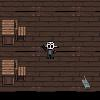Jason: (40, 41, 59, 59)
Obstacle: (0, 58, 28, 86), (0, 17, 27, 46)
Win: (77, 74, 94, 91)
